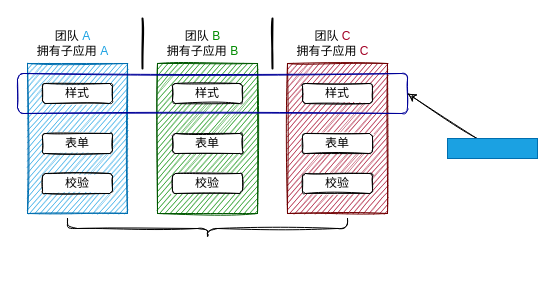
Image size: 555x285. Some labels were removed from this diagram. Each missing label, with the centre of its shape:
"三个子应用由三个团队垂直管理" belongs at (207,228).
"避免水平管理" belongs at (492,148).
